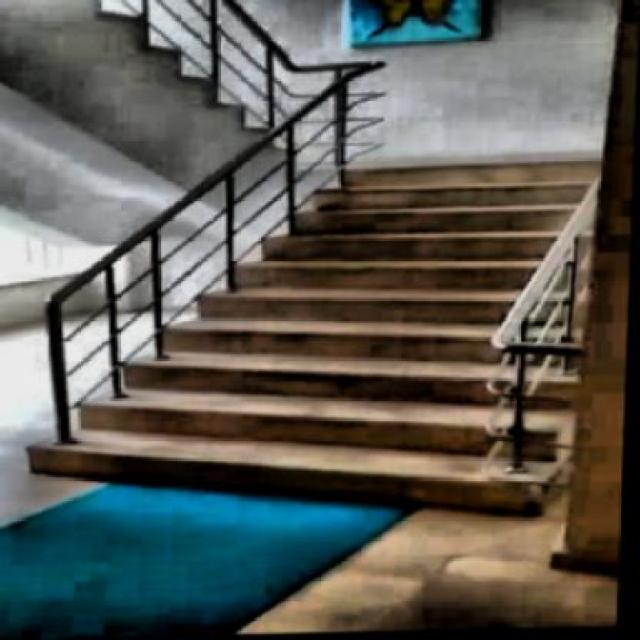stair: (44, 138, 584, 534)
